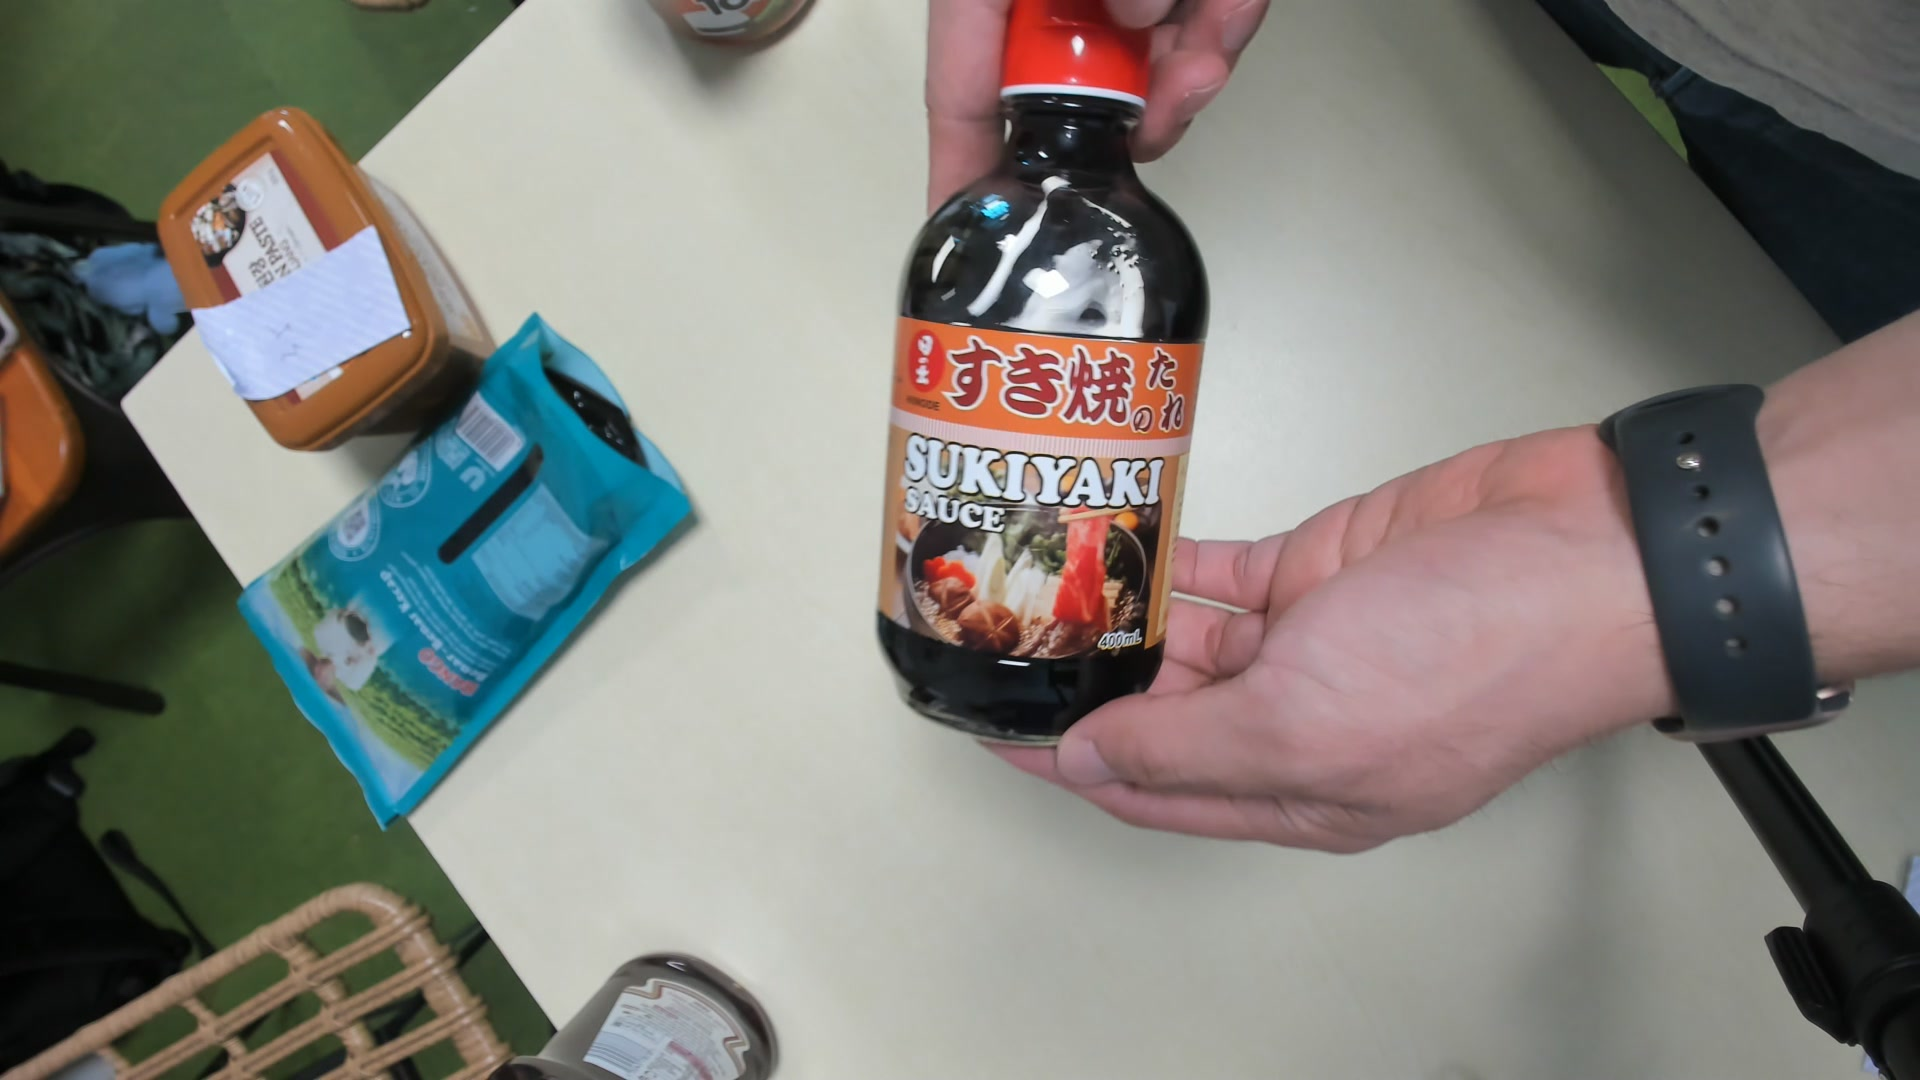OtherSauceDressing_400-499g_NonHalal_NonHealthy: (872, 3, 1209, 740)
